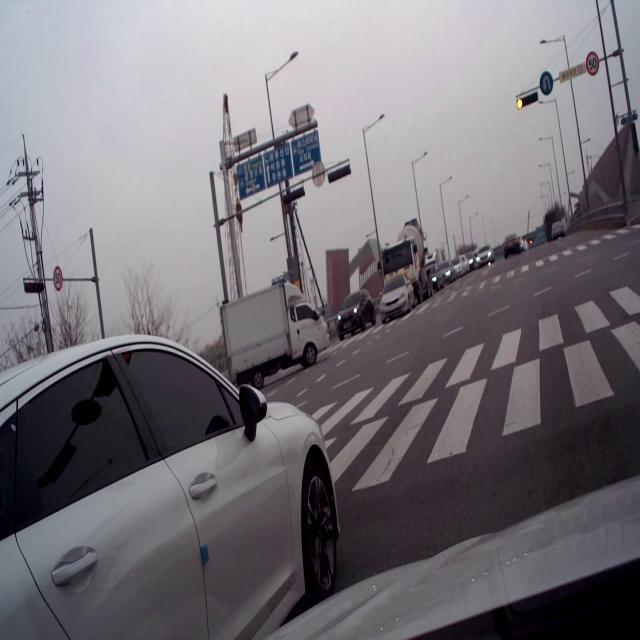crosswalk: (283, 279, 639, 494), (317, 223, 638, 357)
